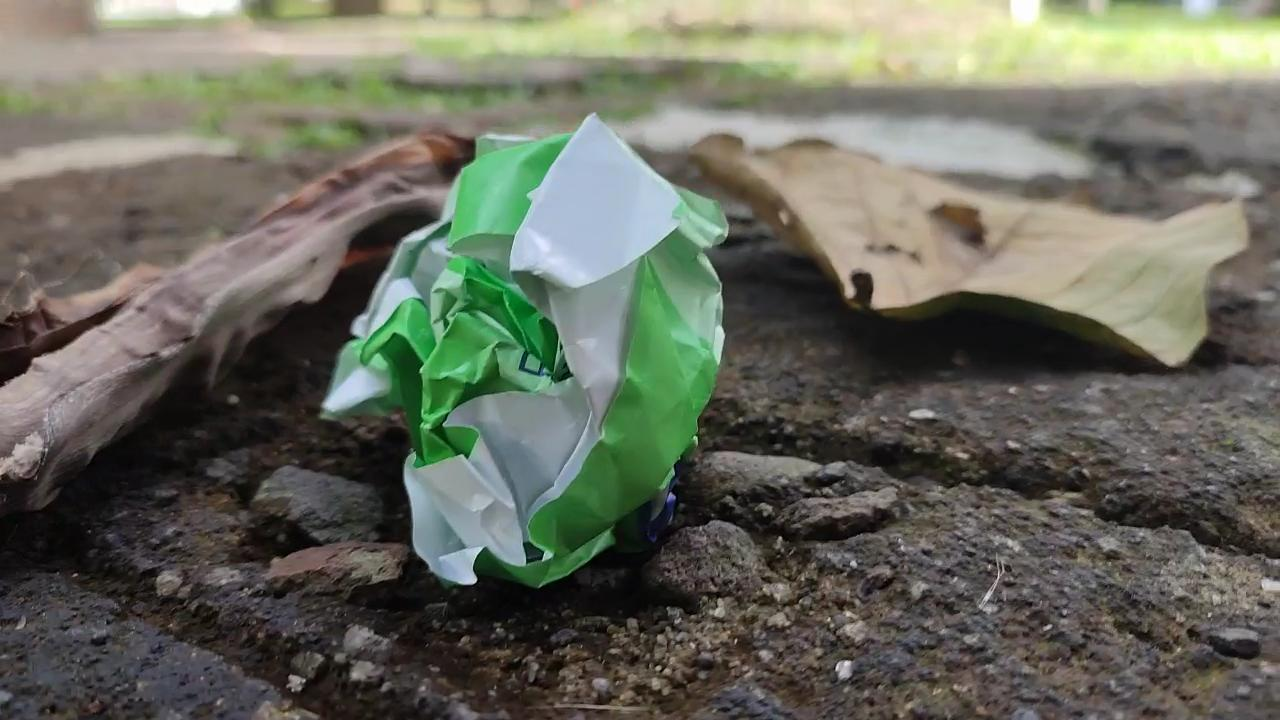Paper: (311, 101, 737, 584)
